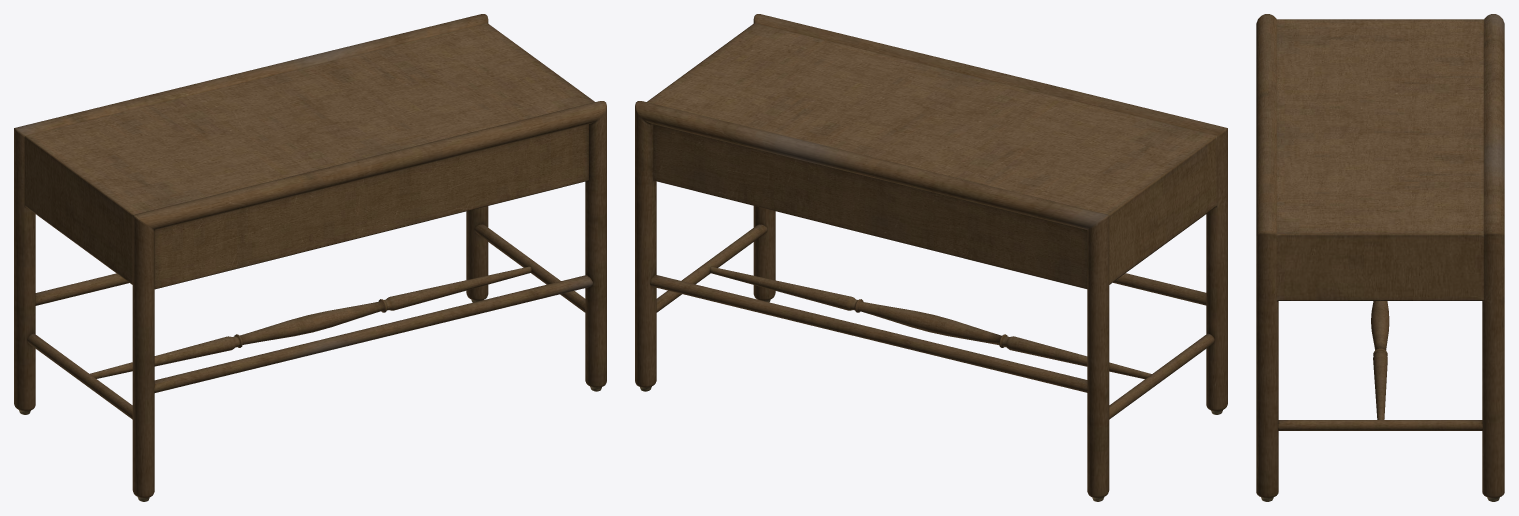
File: small_wooden_table_01.glb
The picture shows the model from 3 angles, left to right: view 1: azimuth 30°, elevation 25°; view 2: azimuth 150°, elevation 25°; view 3: azimuth 270°, elevation 25°; orthographic projection. The views are drawn at different scales.
Visible parts, largest first — view 1: small_wooden_table_01; view 2: small_wooden_table_01; view 3: small_wooden_table_01.
Boxes of the visible parts, <box> form: small_wooden_table_01: <box>14,14,606,501</box>; small_wooden_table_01: <box>635,14,1227,501</box>; small_wooden_table_01: <box>1256,14,1504,501</box>.
Bounding box in the file's own units: 0.9162 × 0.5331 × 0.44.
Materials: 1 (1 with a texture image).
